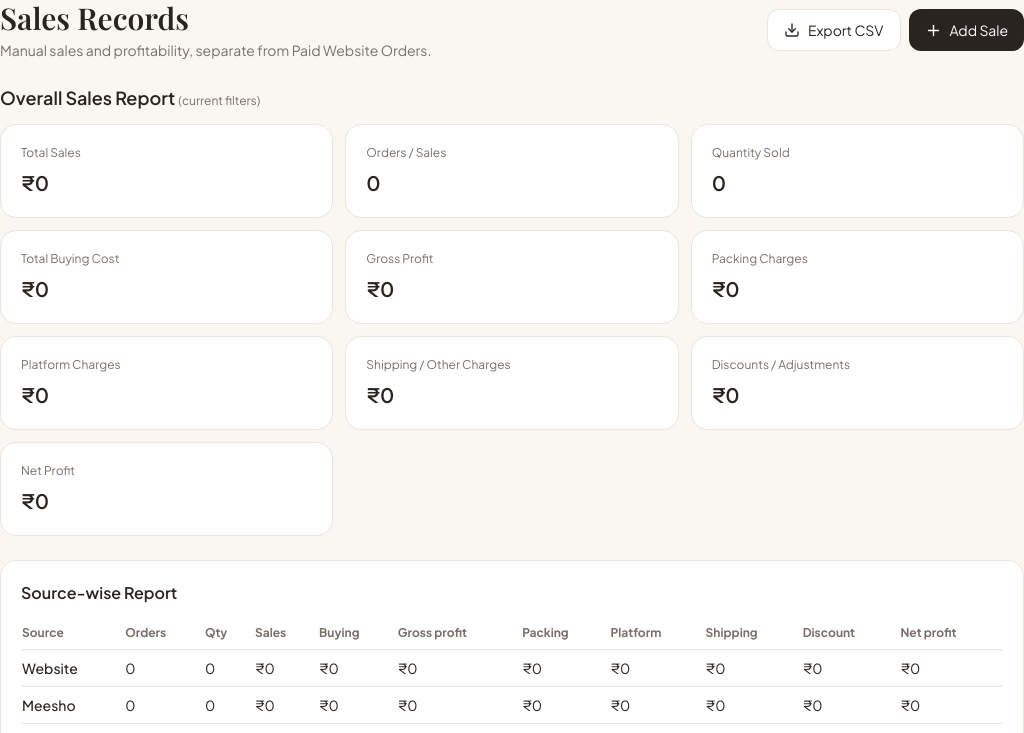
Test case: AdminSales › shows sales reporting and warns that Website records do not adjust stock
Later steps or results of the test are not shown.
Click the button "Add Sale" at (966, 30), box [908,9,1023,51]
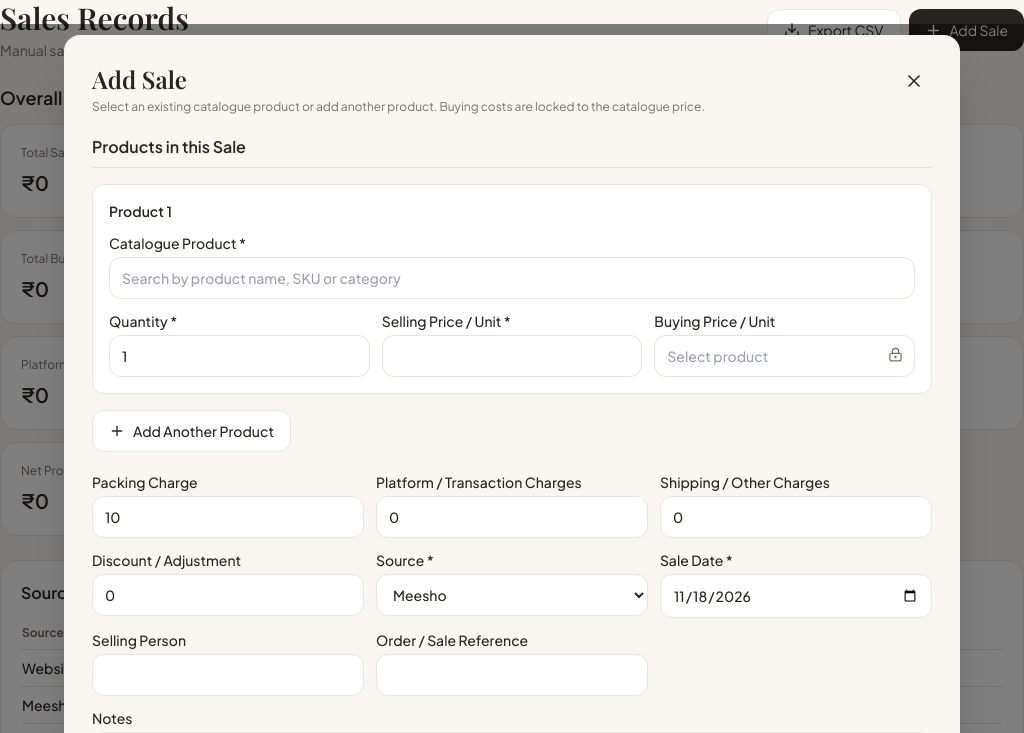
Expected: the text "Select an existing catalogue product" is shown, [92,99,705,114]
